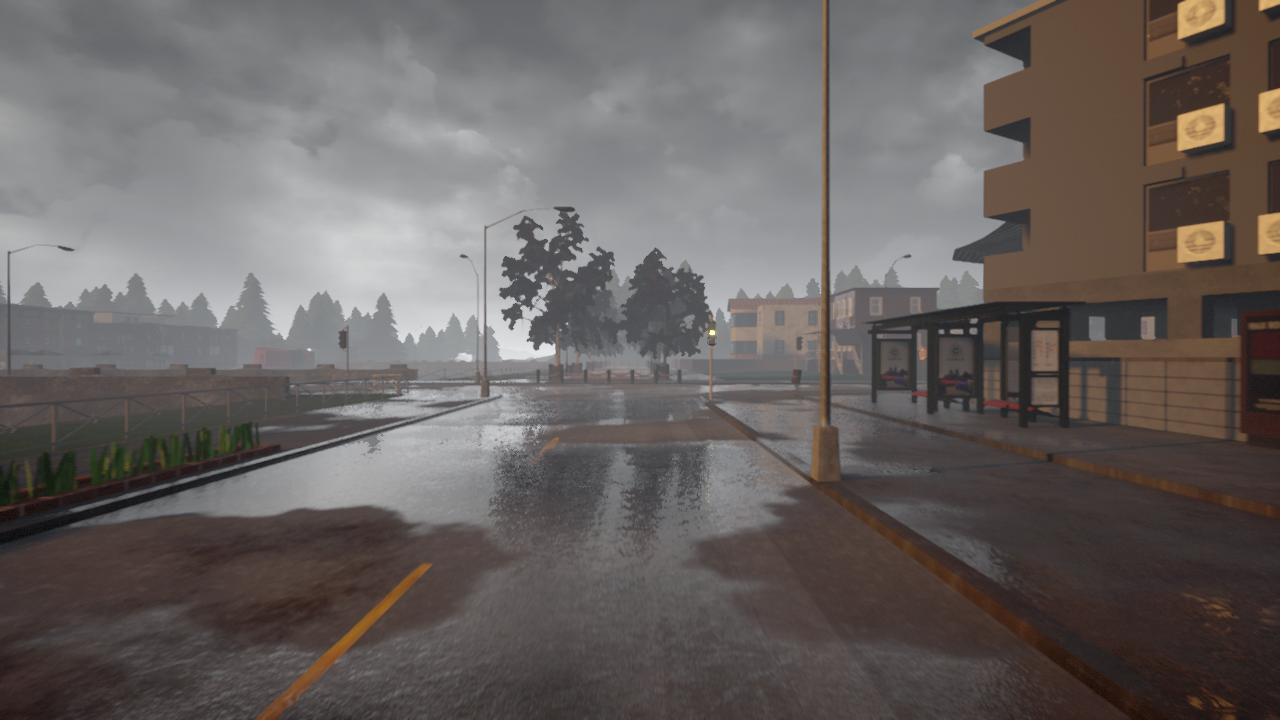yellow: (706, 320, 715, 348)
